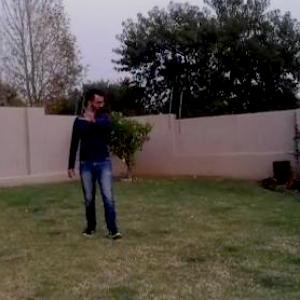follow_hand: (77, 99, 99, 123)
